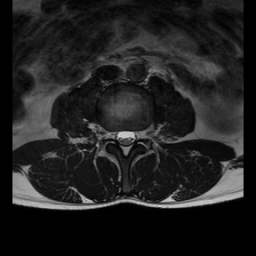CCS_normal: (121, 125, 128, 160)
LFS_normal: (136, 123, 144, 149)
LLS_normal: (128, 125, 136, 151)
RFS_normal: (107, 123, 114, 150)
RLS_normal: (114, 125, 121, 152)
